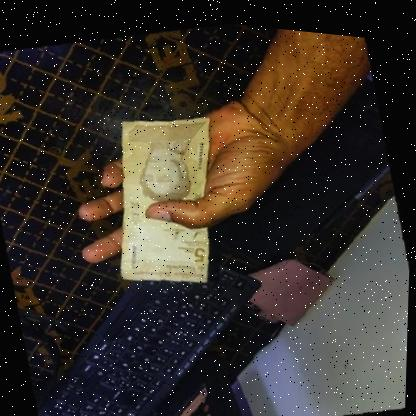five-front-vef: (94, 100, 238, 295)
